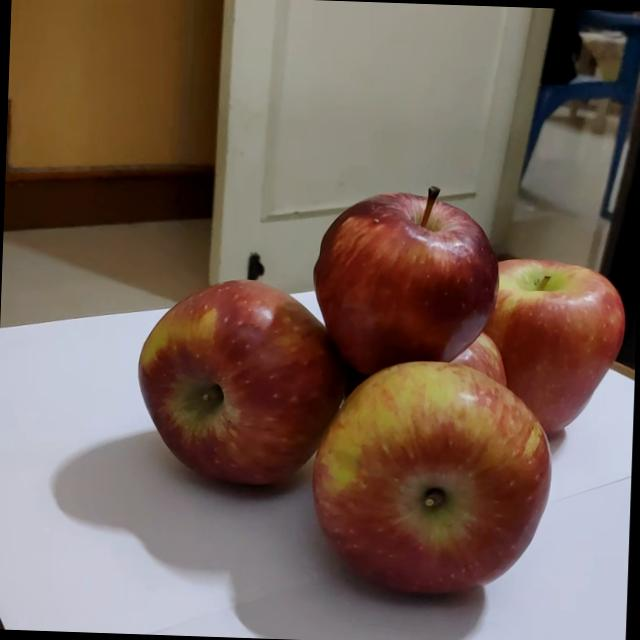apple: (312, 340, 566, 592), (128, 262, 356, 492), (305, 171, 514, 367), (472, 242, 619, 424)
